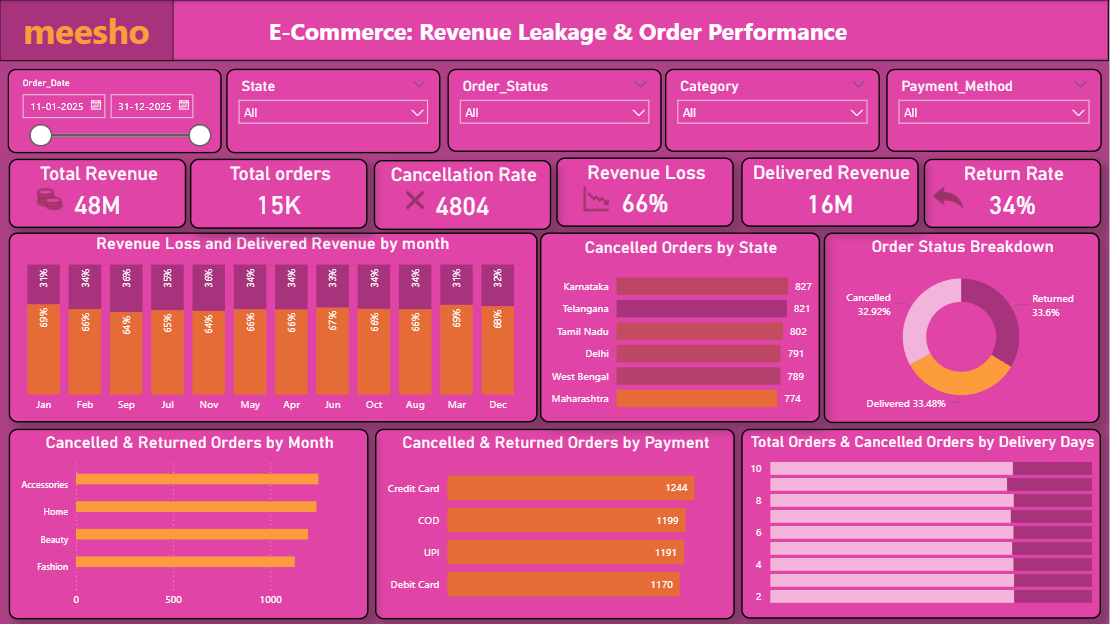

This screenshot's page, from the dashboard's own definition file:
{"tool":"powerbi","page":{"name":"Revenue Leakage","canvas":[1280,720],"ordinal":1},"visuals":[{"type":"card","title":"Total Revenue","fields":{"Values":["meesho.Total Revenue"]},"box":[10,183.8,205,80],"z":0},{"type":"card","title":"Revenue Loss","fields":{"Values":["meesho.Revenue Loss %"]},"box":[641.8,182.2,205.1,79.6],"z":1000},{"type":"card","title":"Cancellation Rate","fields":{"Values":["meesho.Cancelled_Orders"]},"box":[430.7,184.6,205.1,80.8],"z":2000},{"type":"card","title":"Return Rate","fields":{"Values":["meesho.Return Rate"]},"box":[1066.2,183.8,205,80],"z":3000},{"type":"slicer","fields":{"Values":["meesho.State"]},"box":[261.2,78.8,247.5,97.5],"z":4000},{"type":"slicer","fields":{"Values":["meesho.Order_Date"]},"box":[8.8,78.8,247.5,97.5],"z":5000},{"type":"slicer","fields":{"Values":["meesho.Order_Status"]},"box":[516.2,80,247.5,96.2],"z":6000},{"type":"slicer","fields":{"Values":["meesho.Payment_Method"]},"box":[1022.5,80,248.8,96.2],"z":7000},{"type":"hundredPercentStackedColumnChart","fields":{"Category":["meesho.month"],"Y":["meesho.Revenue Loss","meesho.Delivered Revenue"]},"box":[9.7,269,610.5,219.6],"z":8000},{"type":"barChart","title":"Cancelled  & Returned Orders by Payment","fields":{"Category":["meesho.Payment_Method"],"Y":["meesho.Cancelled_Orders","meesho.Returned Orders"]},"box":[432.5,495,415,220],"z":9000},{"type":"clusteredBarChart","title":"Cancelled  & Returned Orders by Month","fields":{"Category":["meesho.Category"],"Y":["meesho.Cancelled_Orders","meesho.Returned Orders"]},"box":[10,495,415,220],"z":10000},{"type":"donutChart","title":"Order Status Breakdown","fields":{"Category":["meesho.Order_Status"],"Y":["meesho.Tota Orders"]},"box":[951.2,268.8,318,220],"z":11000},{"type":"hundredPercentStackedBarChart","title":"Total Orders & Cancelled Orders by Delivery Days","fields":{"Category":["meesho.Delivery_Time_Days"],"Y":["meesho.Tota Orders","meesho.Cancelled_Orders"]},"box":[855.6,494.9,415.5,219.3],"z":12000},{"type":"card","title":"Total orders","fields":{"Values":["meesho.Tota Orders"]},"box":[219.6,183.4,205.1,80.8],"z":13000},{"type":"slicer","fields":{"Values":["meesho.Category"]},"box":[767.5,80,248,96.2],"z":14000},{"type":"shape","box":[0,0,1271.2,70],"z":15000},{"type":"shape","box":[8.8,0,1271.2,70],"z":16000},{"type":"shape","box":[0,0,200,70],"z":17000},{"type":"actionButton","box":[36.2,208.8,53.8,41.2],"z":18000},{"type":"actionButton","box":[1069.5,202.4,51.2,52.4],"z":19000},{"type":"actionButton","box":[459.8,212.2,48.8,37.8],"z":20000},{"type":"actionButton","box":[663.4,204.9,56.1,48.8],"z":21000},{"type":"card","title":"Delivered Revenue","fields":{"Values":["meesho.Delivered Revenue"]},"box":[855.4,182.2,205.1,80],"z":22000},{"type":"clusteredBarChart","title":"Cancelled Orders by State","fields":{"Category":["meesho.State"],"Y":["meesho.Cancelled_Orders"]},"box":[623.7,269,323,219.6],"z":23000}]}

Visuals, with their boxes in screenshot pixels (x1, y1, x2, y2), scaled from the page's 1280x720 canvas onto the 1110x624 screenshot:
"Total Revenue" card: <region>9, 159, 186, 229</region>
"Revenue Loss" card: <region>557, 158, 734, 227</region>
"Cancellation Rate" card: <region>373, 160, 551, 230</region>
"Return Rate" card: <region>925, 159, 1102, 229</region>
slicer - meesho.State: <region>227, 68, 441, 153</region>
slicer - meesho.Order_Date: <region>8, 68, 222, 153</region>
slicer - meesho.Order_Status: <region>448, 69, 662, 153</region>
slicer - meesho.Payment_Method: <region>887, 69, 1102, 153</region>
hundredPercentStackedColumnChart - meesho.month x meesho.Revenue Loss: <region>8, 233, 538, 423</region>
"Cancelled  & Returned Orders by Payment" barChart: <region>375, 429, 735, 620</region>
"Cancelled  & Returned Orders by Month" clusteredBarChart: <region>9, 429, 369, 620</region>
"Order Status Breakdown" donutChart: <region>825, 233, 1101, 424</region>
"Total Orders & Cancelled Orders by Delivery Days" hundredPercentStackedBarChart: <region>742, 429, 1102, 619</region>
"Total orders" card: <region>190, 159, 368, 229</region>
slicer - meesho.Category: <region>666, 69, 881, 153</region>
shape: <region>0, 0, 1102, 61</region>
shape: <region>8, 0, 1109, 61</region>
shape: <region>0, 0, 173, 61</region>
actionButton: <region>31, 181, 78, 217</region>
actionButton: <region>927, 175, 972, 221</region>
actionButton: <region>399, 184, 441, 217</region>
actionButton: <region>575, 178, 624, 220</region>
"Delivered Revenue" card: <region>742, 158, 920, 227</region>
"Cancelled Orders by State" clusteredBarChart: <region>541, 233, 821, 423</region>
